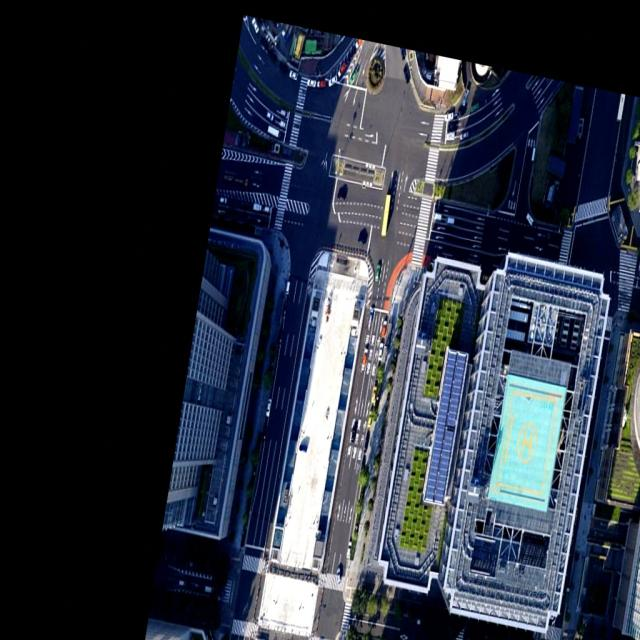helipad: (514, 421, 538, 463)
